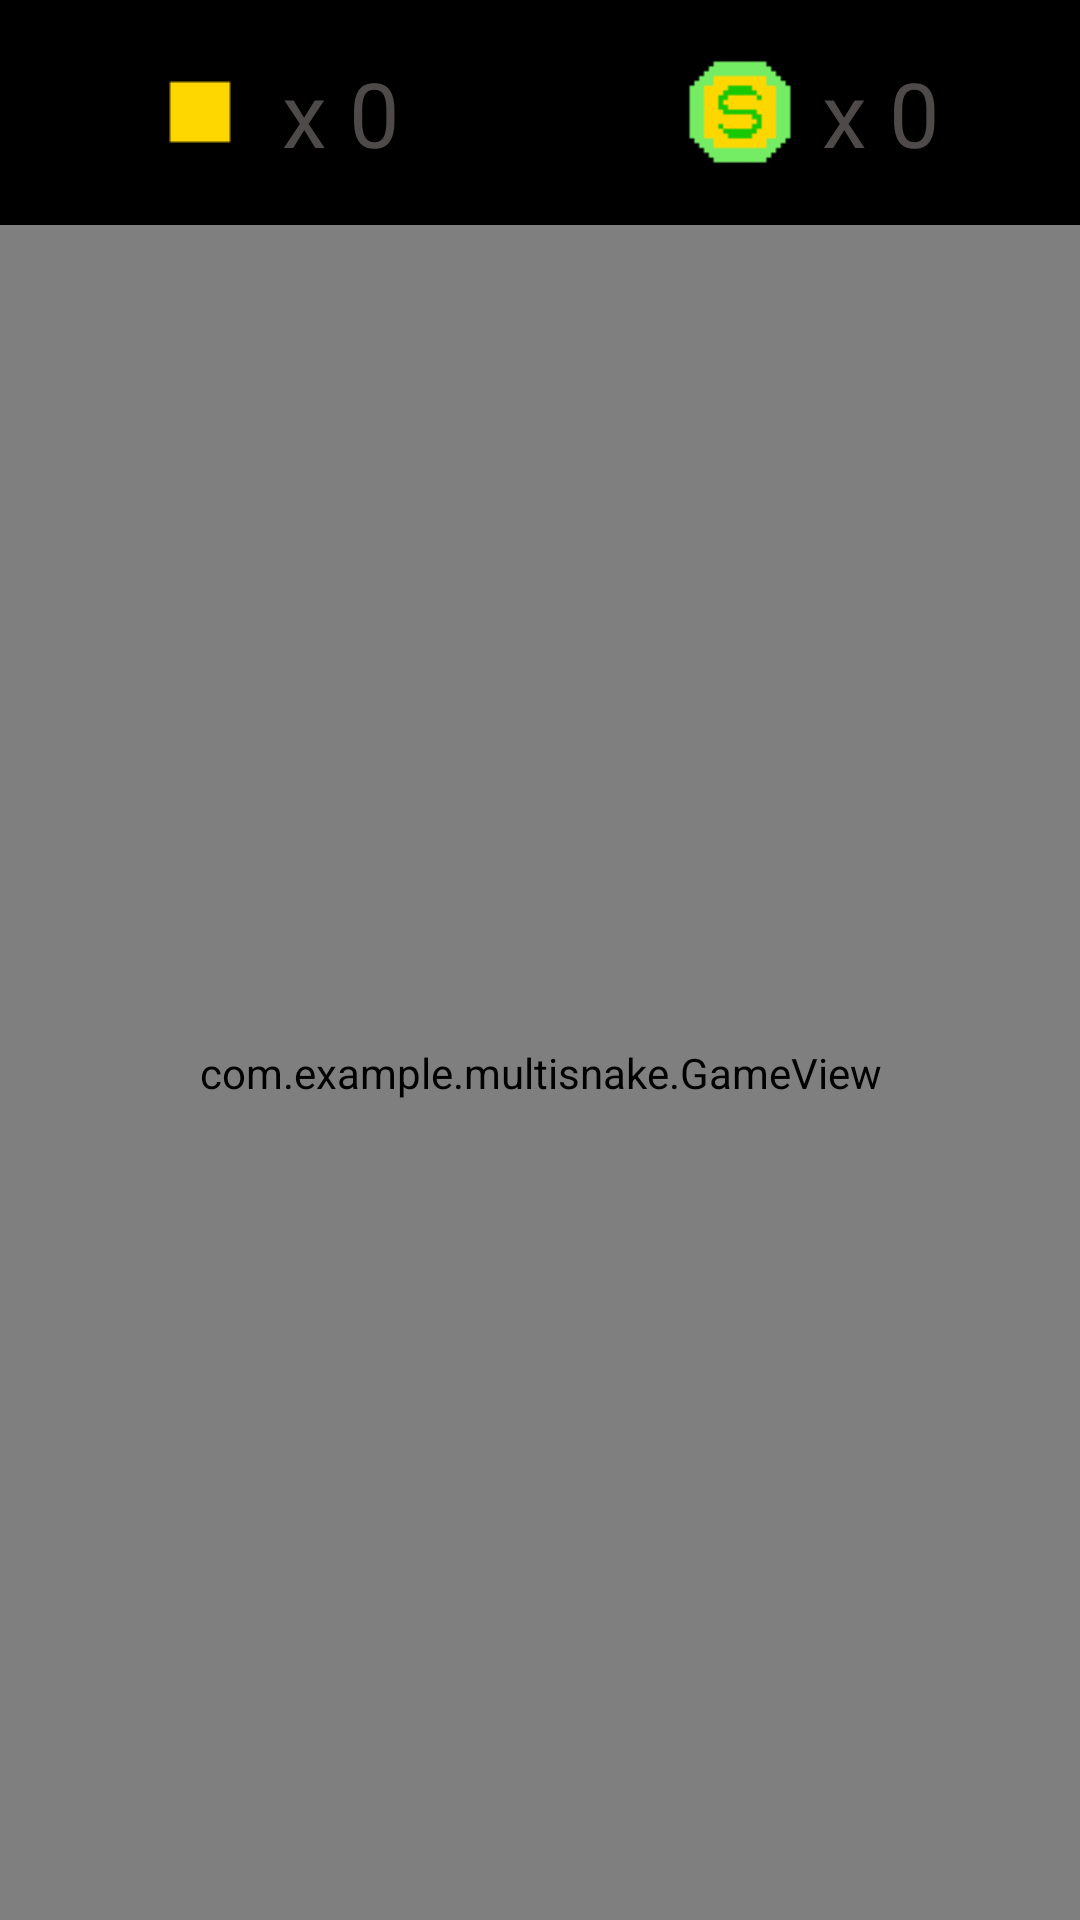

Icons on this 1080 × 1920 Android screen, each with the point to tap as point (x, y):
snake coin: point (740, 112)
